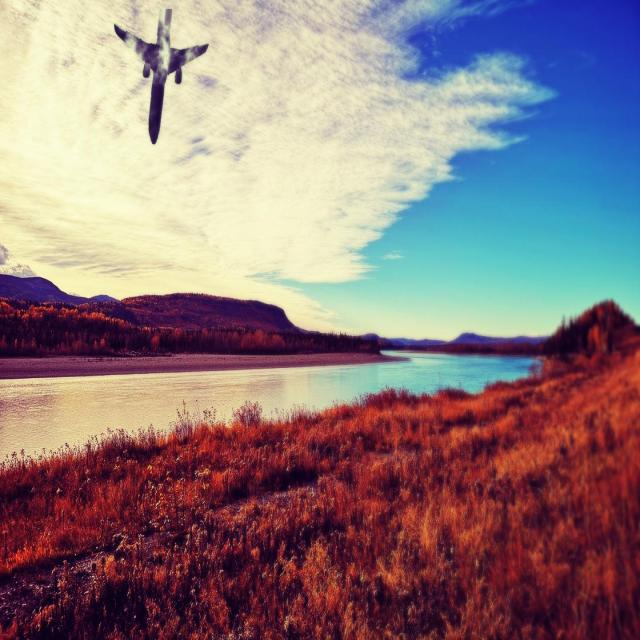airplane: (113, 7, 208, 145)
